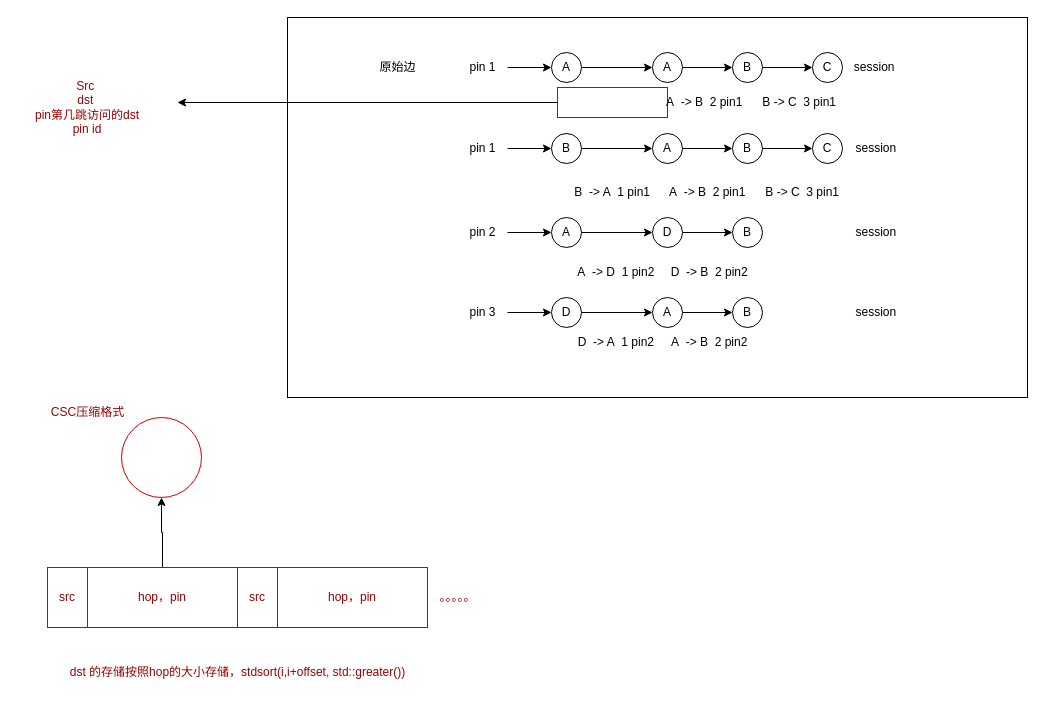
Image size: 1045x705. Some labels were removed from this diagram. Here are the shapes that lost their labels. From the top down, the centre of each, then its label:
point 612,102: A -> A 1 pin1
point 161,457: mirror dst
